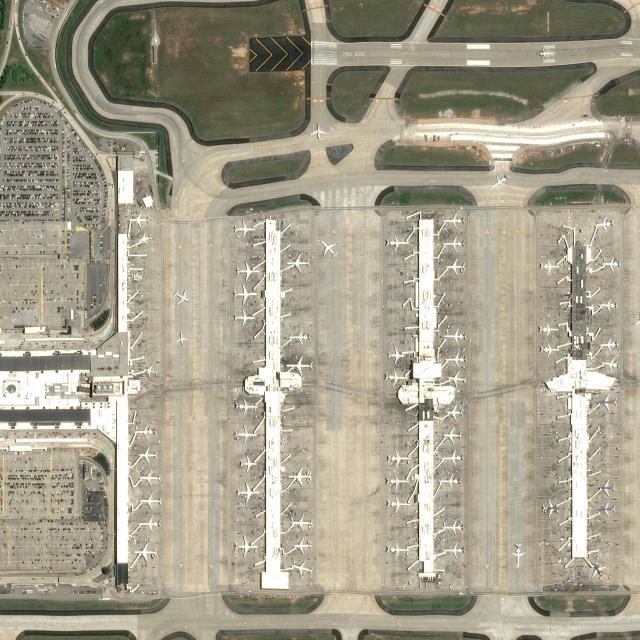aircraft: (286, 354, 314, 376), (232, 282, 258, 304), (230, 304, 256, 326), (233, 535, 259, 557), (286, 251, 310, 273), (136, 514, 162, 534), (132, 542, 158, 562), (237, 481, 260, 502), (235, 260, 259, 280), (234, 423, 258, 443), (287, 466, 311, 486), (233, 218, 256, 237), (234, 398, 258, 416), (288, 328, 312, 346), (385, 234, 409, 252), (441, 234, 465, 252), (442, 541, 466, 559), (139, 492, 161, 511), (385, 496, 411, 512), (442, 212, 465, 230), (438, 472, 461, 490), (441, 517, 464, 535), (385, 473, 409, 490), (319, 238, 339, 258), (444, 401, 464, 421), (439, 450, 464, 466), (597, 392, 617, 412), (128, 210, 150, 228), (134, 422, 156, 440), (140, 468, 162, 486), (290, 513, 312, 531), (290, 559, 312, 577), (386, 450, 410, 466), (386, 542, 410, 558), (386, 369, 408, 386), (445, 370, 467, 387), (239, 452, 257, 472), (292, 537, 312, 555), (444, 258, 464, 276), (442, 328, 466, 343), (596, 478, 616, 496), (489, 173, 510, 190), (598, 336, 620, 352), (541, 498, 559, 517), (137, 446, 157, 463), (512, 542, 526, 566), (444, 351, 466, 366), (440, 427, 462, 442), (538, 259, 560, 274), (386, 346, 404, 364), (594, 215, 614, 231), (601, 255, 621, 271), (598, 297, 618, 313), (538, 322, 559, 337), (539, 342, 561, 356), (590, 561, 606, 580), (172, 288, 190, 304), (310, 124, 328, 140), (600, 357, 620, 371), (597, 502, 616, 516), (143, 364, 159, 379), (174, 332, 188, 348), (137, 232, 152, 244), (537, 48, 551, 59)
